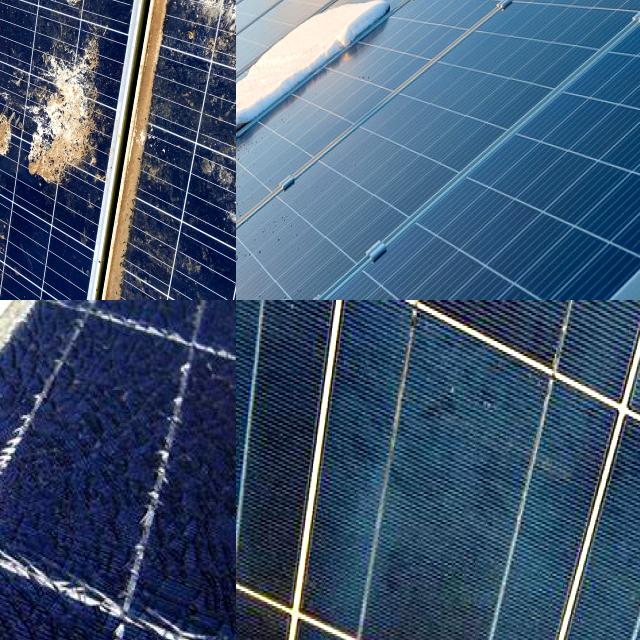bird: (21, 0, 147, 98), (0, 120, 77, 234), (85, 95, 141, 228), (0, 19, 43, 117), (0, 48, 47, 112)
hotspot: (0, 383, 81, 592)
panel: (238, 0, 403, 84), (236, 180, 321, 300), (510, 0, 640, 63), (353, 0, 486, 39), (236, 0, 327, 56), (236, 103, 286, 155)
shadow: (411, 300, 508, 448)
